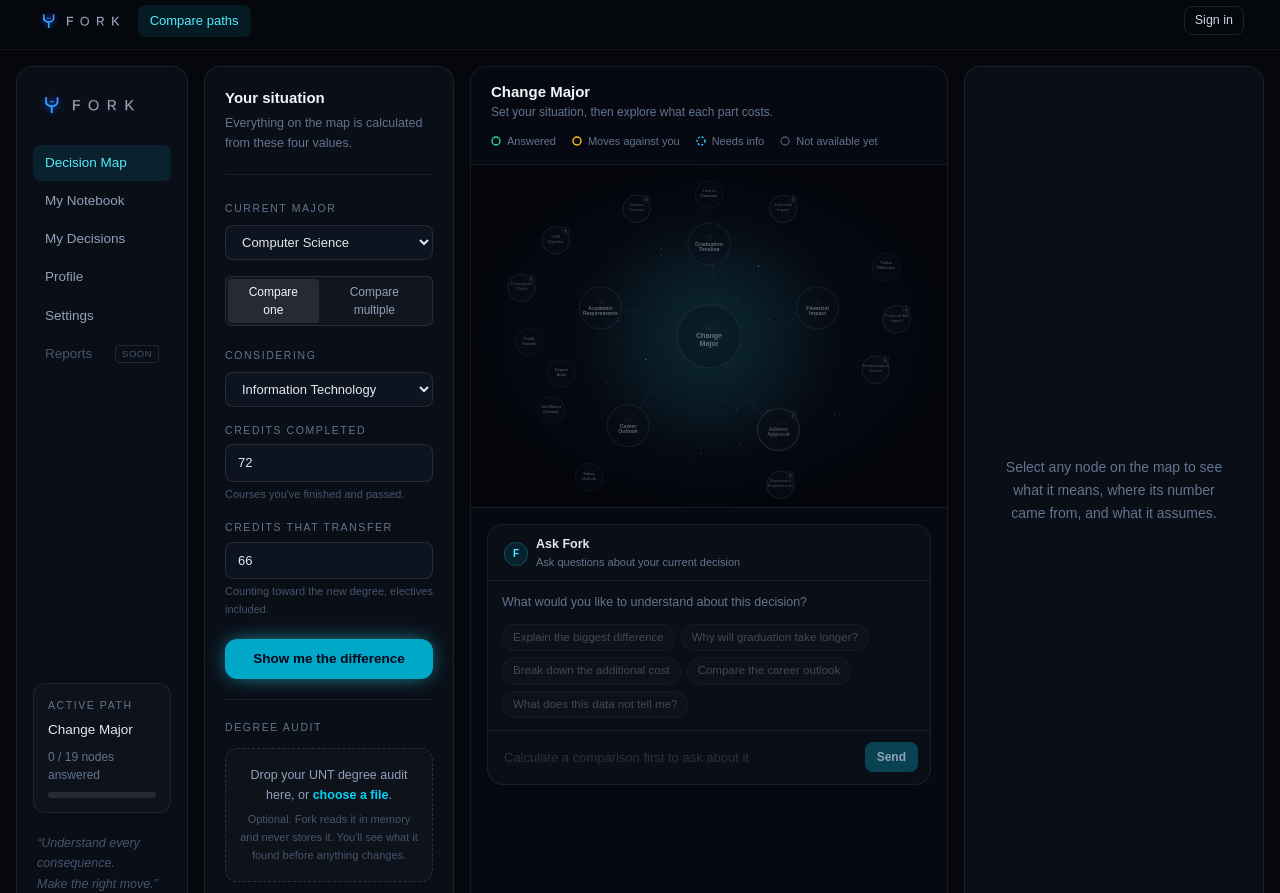
it: Home — failed request handling › preserves the last successful result when a later request fails
Click the button "Show me the difference" at (329, 659), box [225,639,433,679]
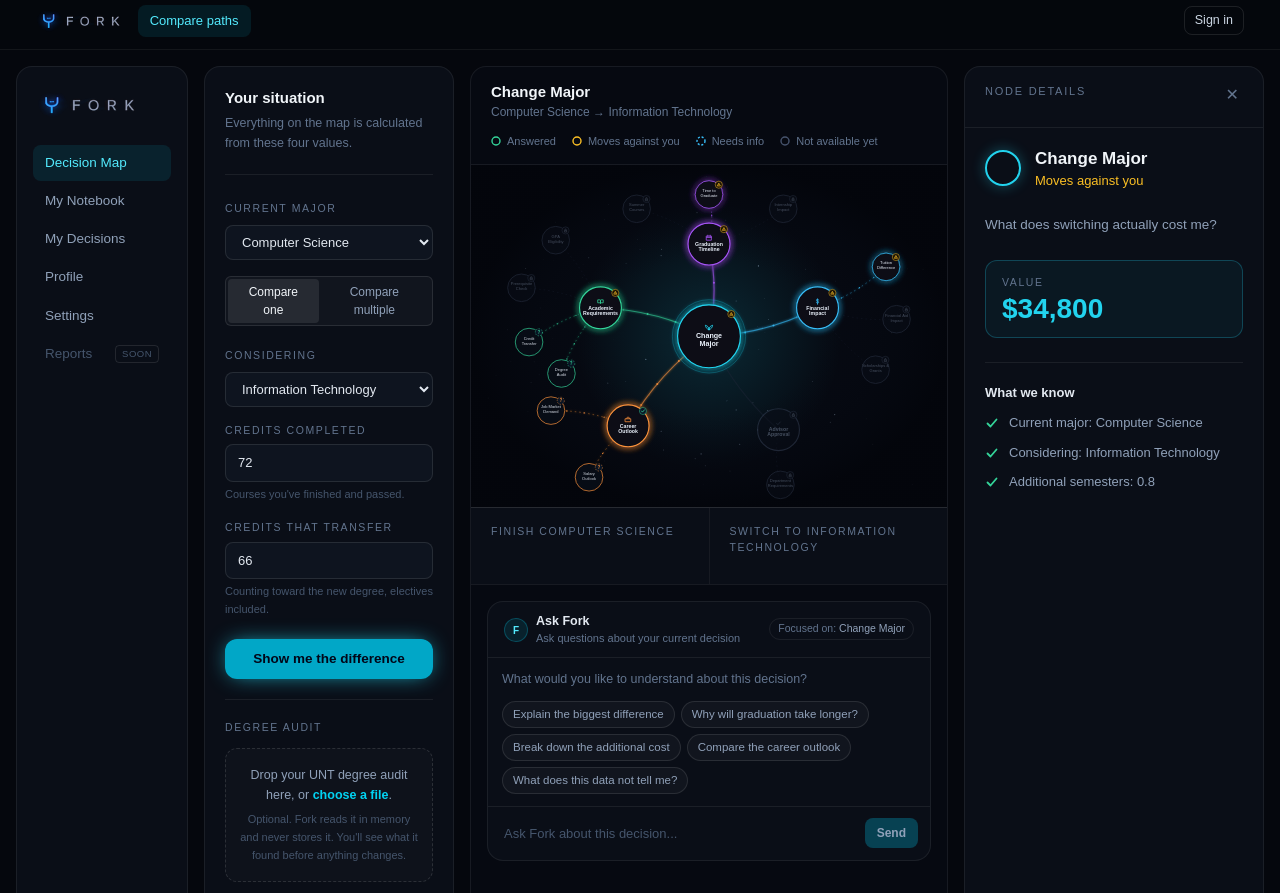
Click the button "Show me the difference" at (329, 659), box [225,639,433,679]
(page scrolled)
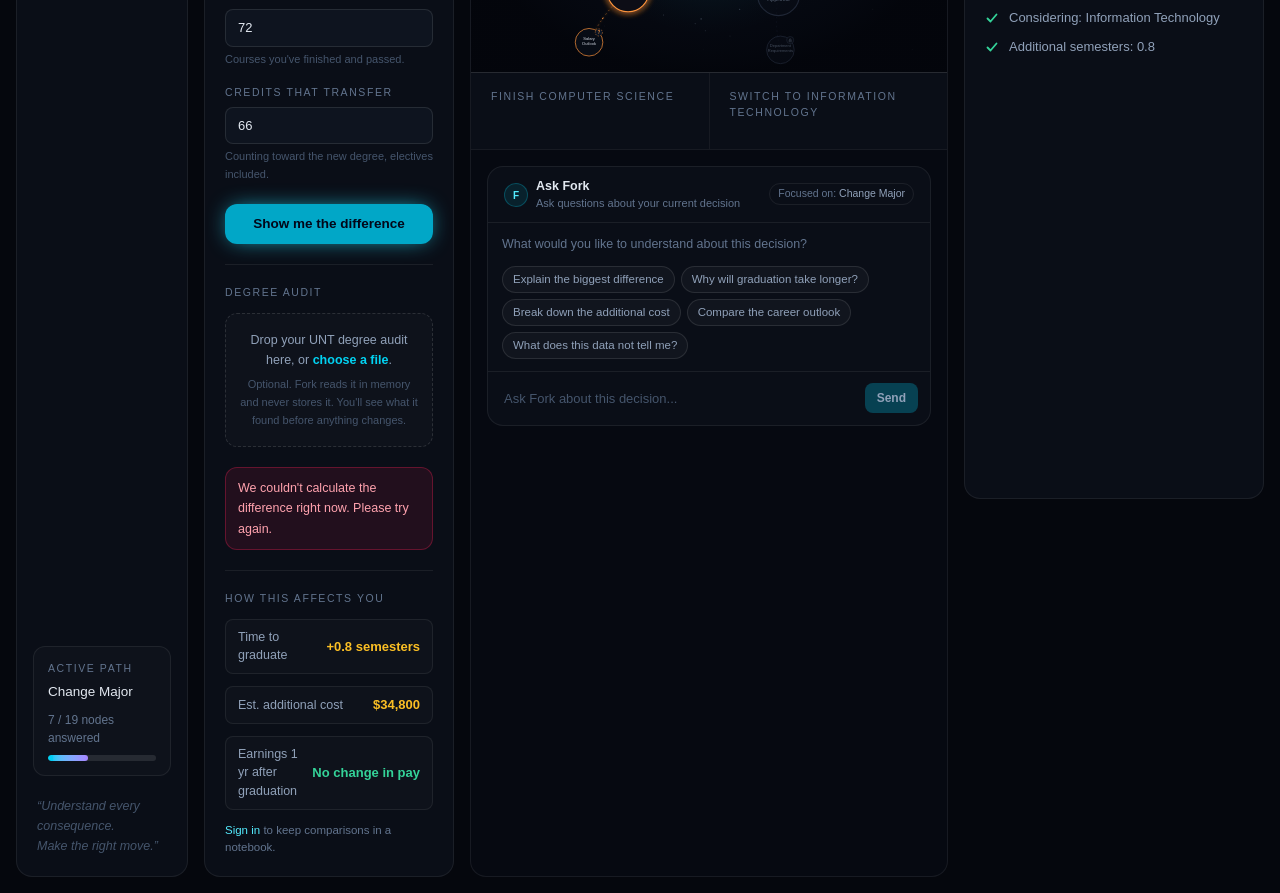
Now the text "How this affects you" is shown, box [225,592,384,604]
Now the text "We couldn't calculate the difference right now. Please try again." is shown, box [225,467,433,550]
